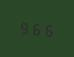nine: (18, 18, 29, 36)
six: (31, 19, 42, 37), (43, 20, 54, 38)
